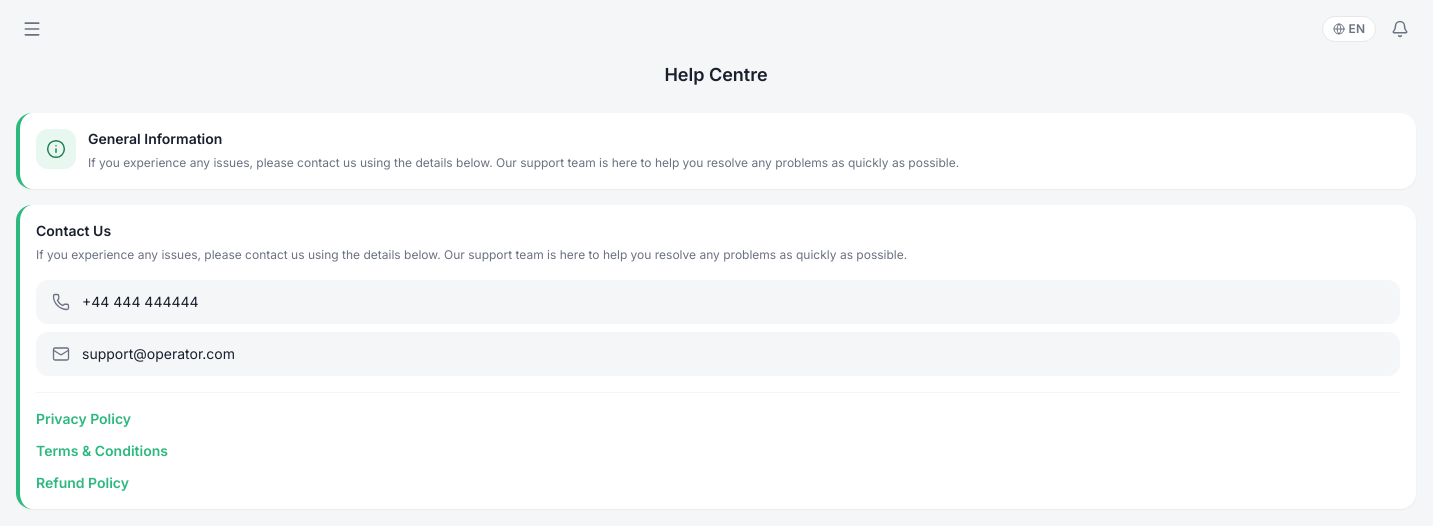
Test: HelpCentrePage — translation › title translates to Spanish when language toggled
Click the button with aria-label "switch to spanish".
click(1349, 29)  # box [1322,16,1376,42]
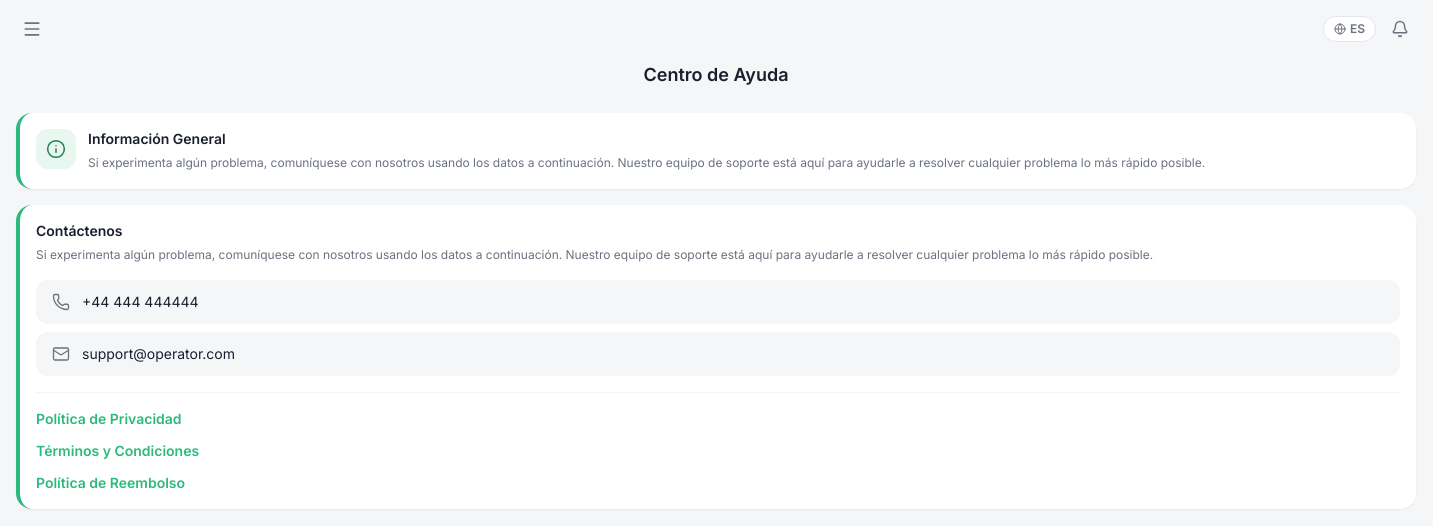
Now the heading "Centro de Ayuda" is shown, box [644,64,788,85]
